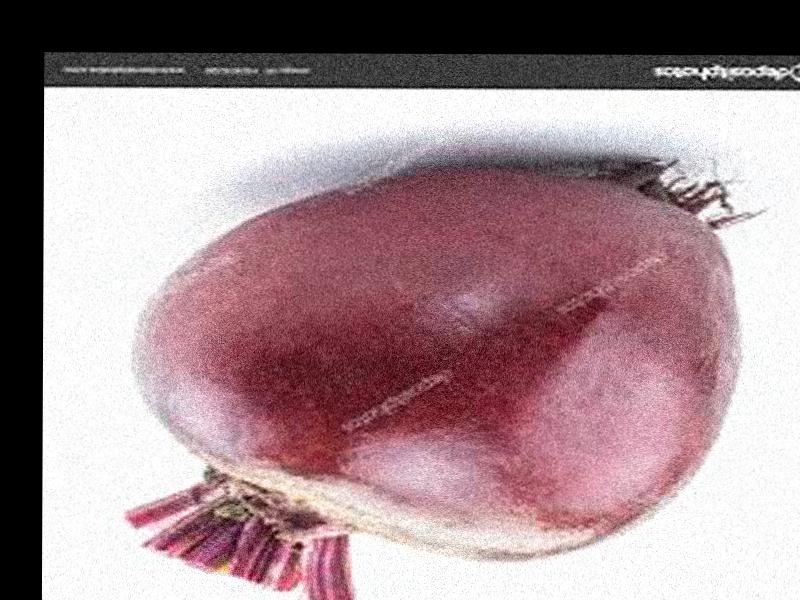Beet: (129, 164, 739, 600)
